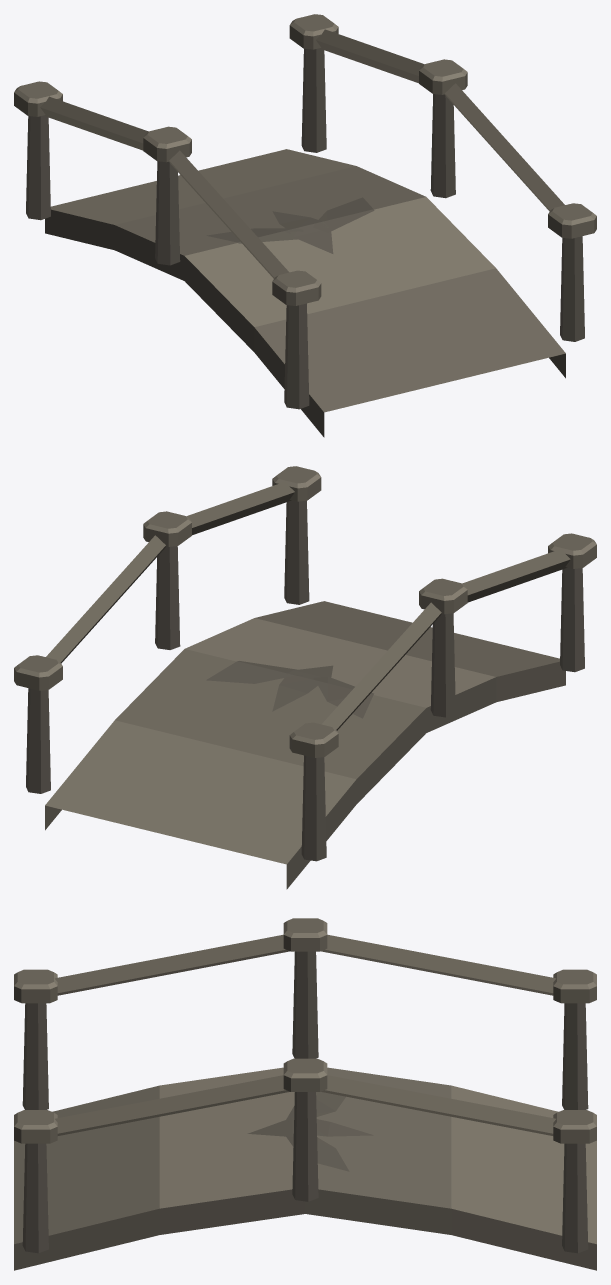
Rendered from bridge_arched_4m.glb.
3 renders of one model, top to bottom at view 1: azimuth 30°, elevation 25°; view 2: azimuth 150°, elevation 25°; view 3: azimuth 270°, elevation 25°, orthographic. The views are drawn at different scales.
Visible parts, largest first — view 1: Body_bridge_arched_4m.001; view 2: Body_bridge_arched_4m.001; view 3: Body_bridge_arched_4m.001.
Part boxes in pixels (box(x1,y1,x2,y2)): Body_bridge_arched_4m.001: box(14, 14, 596, 437); Body_bridge_arched_4m.001: box(14, 466, 596, 889); Body_bridge_arched_4m.001: box(14, 918, 596, 1270).
Bounding box in the file's own units: 2.57 × 1.61 × 4.
